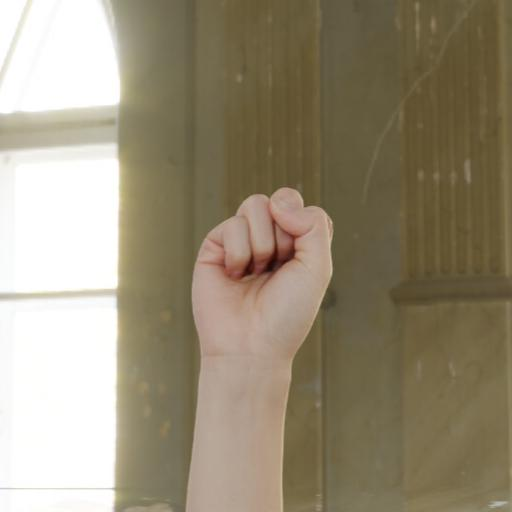S: (181, 176, 355, 372)
